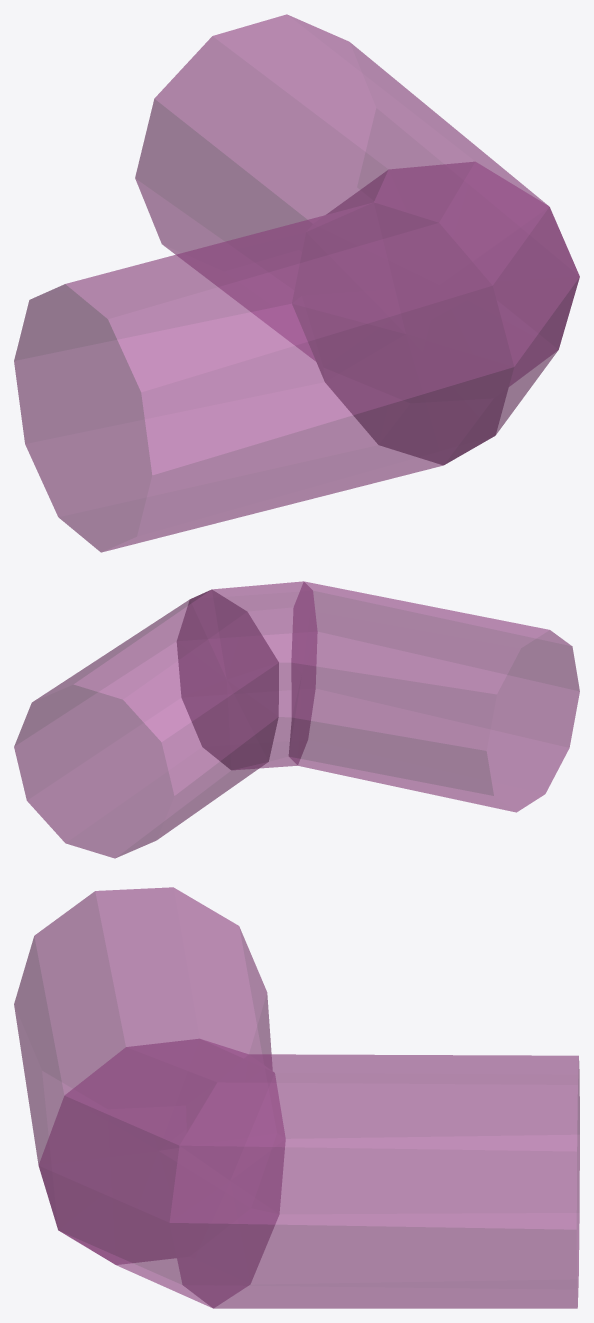
Rendered from SM_Bld_Pipe_Large_Bend_02_Collision.fbx.
The picture shows the model from 3 angles, top to bottom: view 1: azimuth 30°, elevation 25°; view 2: azimuth 150°, elevation 25°; view 3: azimuth 270°, elevation 25°; orthographic projection. The views are drawn at different scales.
Visible parts, largest first — view 1: SM_Bld_Pipe_Large_Bend_02_Collision; view 2: SM_Bld_Pipe_Large_Bend_02_Collision; view 3: SM_Bld_Pipe_Large_Bend_02_Collision.
Part boxes in pixels (box(x1,y1,x2,y2)): SM_Bld_Pipe_Large_Bend_02_Collision: box(14, 14, 579, 552); SM_Bld_Pipe_Large_Bend_02_Collision: box(14, 581, 579, 858); SM_Bld_Pipe_Large_Bend_02_Collision: box(14, 887, 579, 1308).
Bounding box in the file's own units: 333 × 147 × 335.
